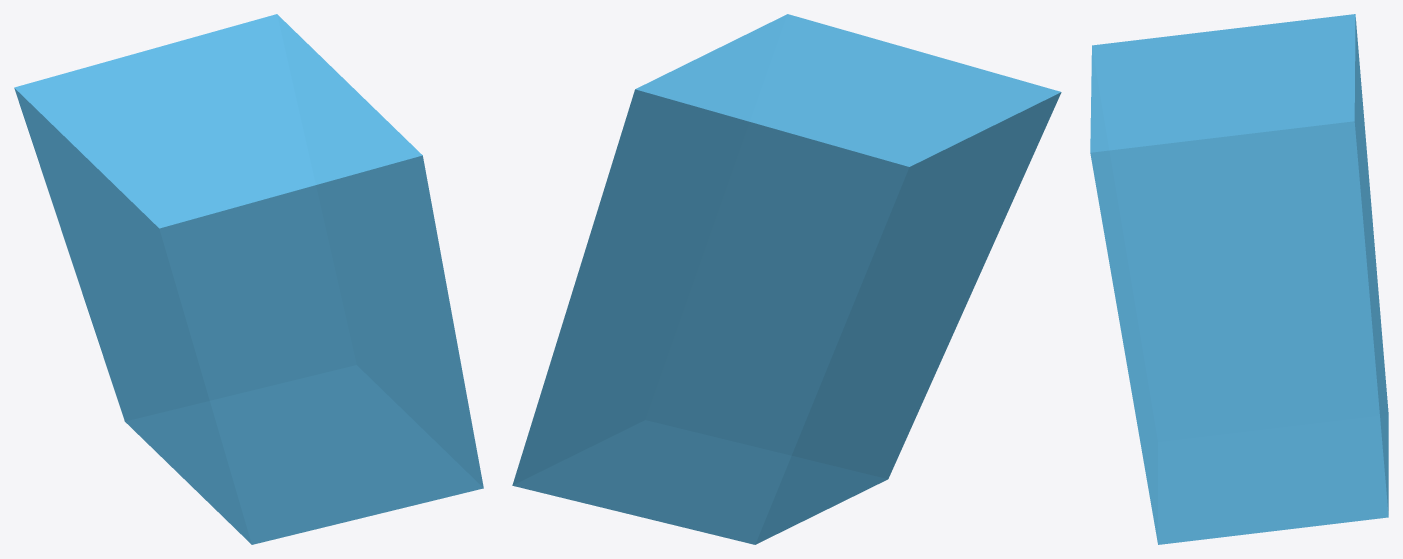
File: Event_420604493_HBrechit_10.fbx
3 renders of one model, left to right at view 1: azimuth 30°, elevation 25°; view 2: azimuth 150°, elevation 25°; view 3: azimuth 270°, elevation 25°, orthographic. The views are drawn at different scales.
Parts seen in each view (by area): view 1: Model; view 2: Model; view 3: Model.
Part boxes in pixels (left/top/right/bottom): Model: left=14, top=14, right=483, bottom=544; Model: left=512, top=14, right=1061, bottom=544; Model: left=1090, top=14, right=1388, bottom=544.
Bounding box in the file's own units: 0.6528 × 0.7243 × 0.5154.
